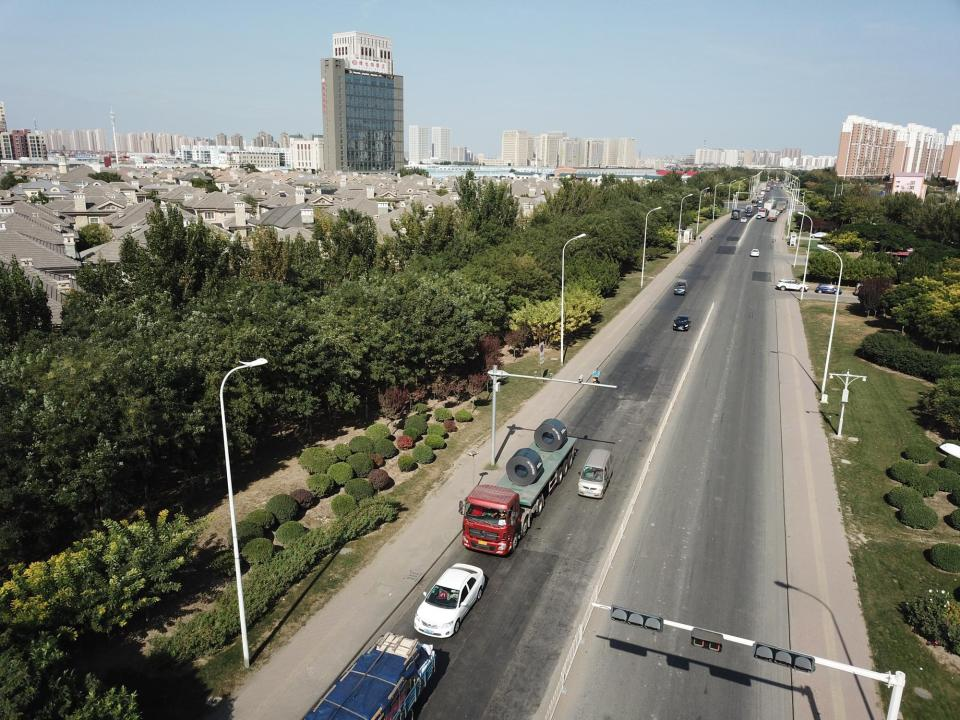bus: (873, 252, 915, 270), (758, 208, 767, 218), (751, 199, 759, 206), (780, 201, 786, 209), (756, 195, 762, 203)
car: (414, 563, 485, 638), (776, 279, 809, 292), (673, 315, 692, 331), (816, 284, 842, 294), (810, 232, 828, 238), (751, 249, 760, 257), (740, 218, 747, 222), (756, 215, 762, 219), (746, 212, 752, 216), (770, 187, 774, 190), (761, 188, 765, 190)
truck: (458, 432, 577, 554), (304, 632, 436, 720), (768, 209, 777, 222), (731, 209, 741, 219), (764, 201, 773, 212), (776, 201, 784, 212), (768, 199, 775, 209), (746, 205, 754, 213), (759, 192, 765, 199), (766, 187, 770, 192)
van: (578, 448, 614, 499), (854, 283, 882, 296), (674, 279, 687, 296)
